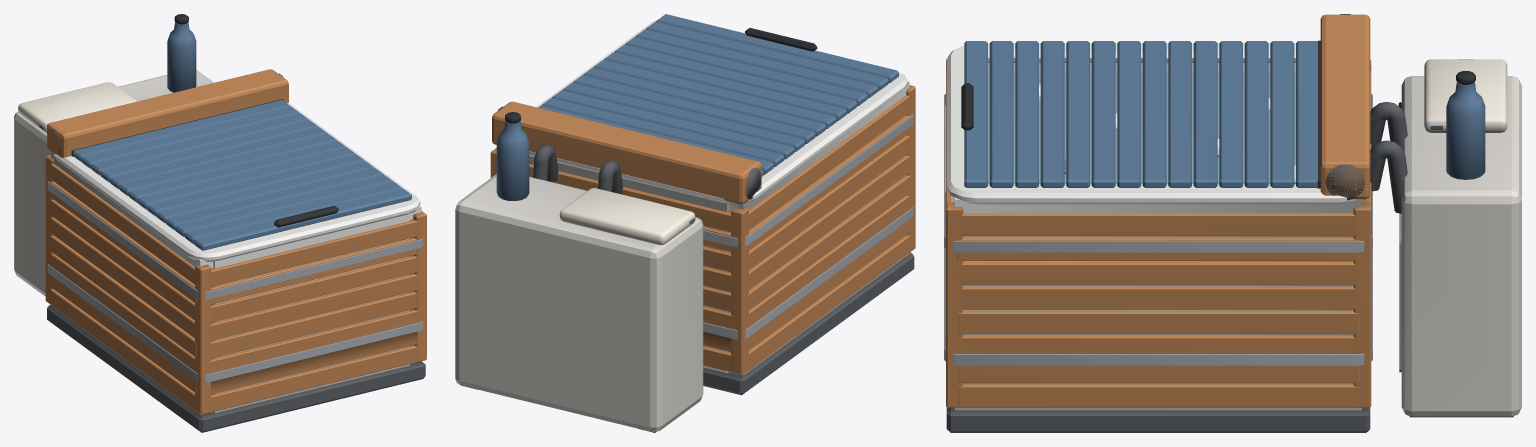
The model's file is coldPlunge.glb.
The picture shows the model from 3 angles, left to right: view 1: azimuth 30°, elevation 25°; view 2: azimuth 150°, elevation 25°; view 3: azimuth 270°, elevation 25°; orthographic projection. The views are drawn at different scales.
Visible parts, largest first — view 1: body, cover; view 2: body, cover; view 3: body, cover.
Boxes of the visible parts, x1=… form: body: x1=14, y1=14, x2=426, y2=432; cover: x1=72, y1=100, x2=411, y2=250; body: x1=455, y1=19, x2=915, y2=432; cover: x1=538, y1=14, x2=898, y2=176; body: x1=944, y1=14, x2=1521, y2=432; cover: x1=961, y1=41, x2=1317, y2=187.
Size of the model in its own units: 0.87 by 0.86 by 1.39.
